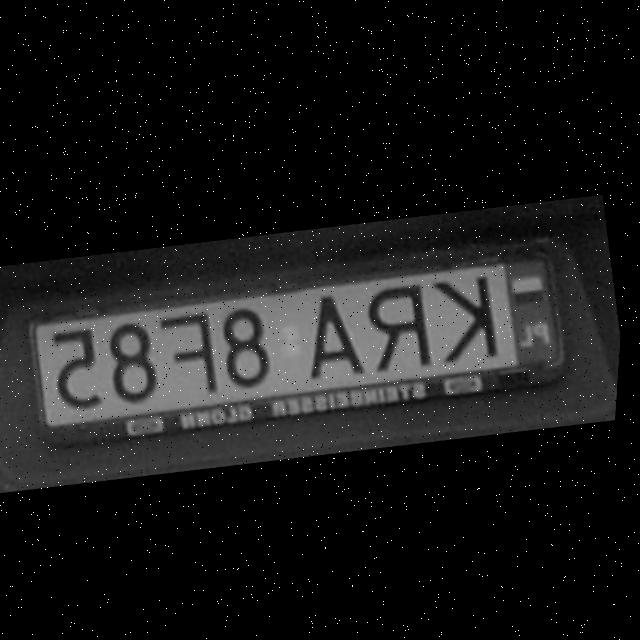license-plates: (31, 258, 561, 431)
